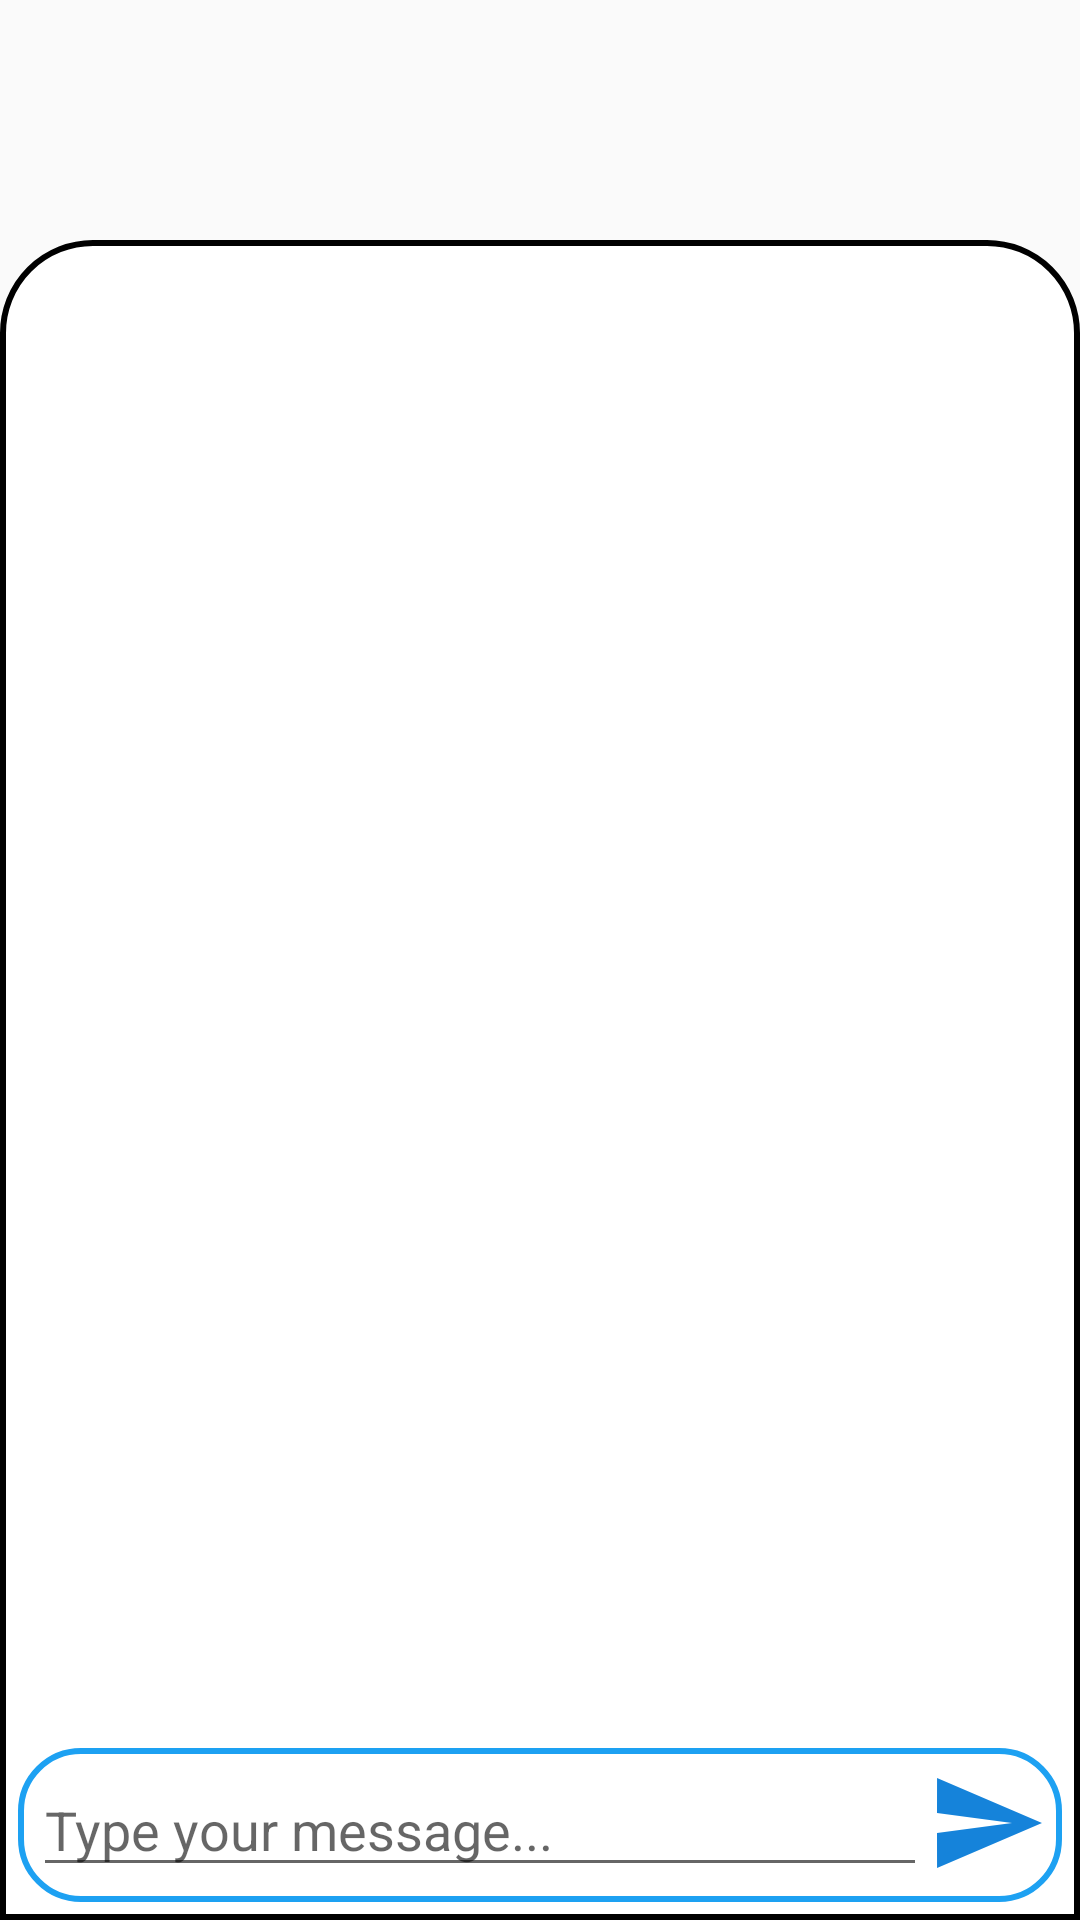

Icons on this 1080px x 1920px Android screen, each with its box as (x1, y1, x2, y2):
send: (937, 1778, 1042, 1868)
